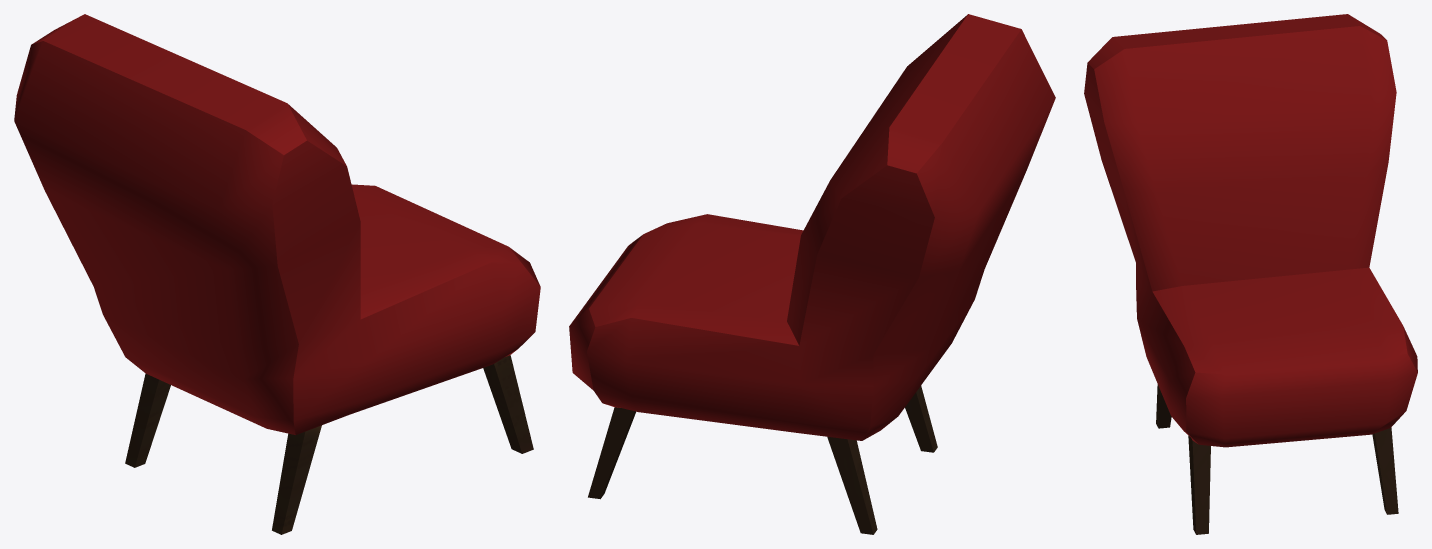
File: chair_red.fbx
The picture shows the model from 3 angles, left to right: view 1: azimuth 30°, elevation 25°; view 2: azimuth 150°, elevation 25°; view 3: azimuth 270°, elevation 25°; orthographic projection. The views are drawn at different scales.
Visible parts, largest first — view 1: couch2; view 2: couch2; view 3: couch2.
Part boxes in pixels (x1=…): couch2: x1=14, y1=14, x2=540, y2=534; couch2: x1=569, y1=14, x2=1055, y2=534; couch2: x1=1084, y1=14, x2=1417, y2=534.
Bounding box in the file's own units: 5.23 × 5.05 × 4.13.
Materials: 1 (1 with a texture image).
